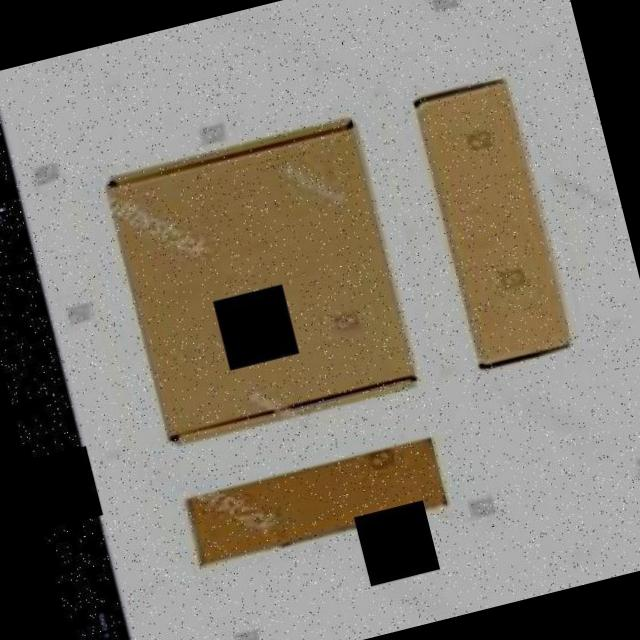box: (89, 109, 427, 454), (401, 71, 590, 396), (168, 433, 458, 580)
